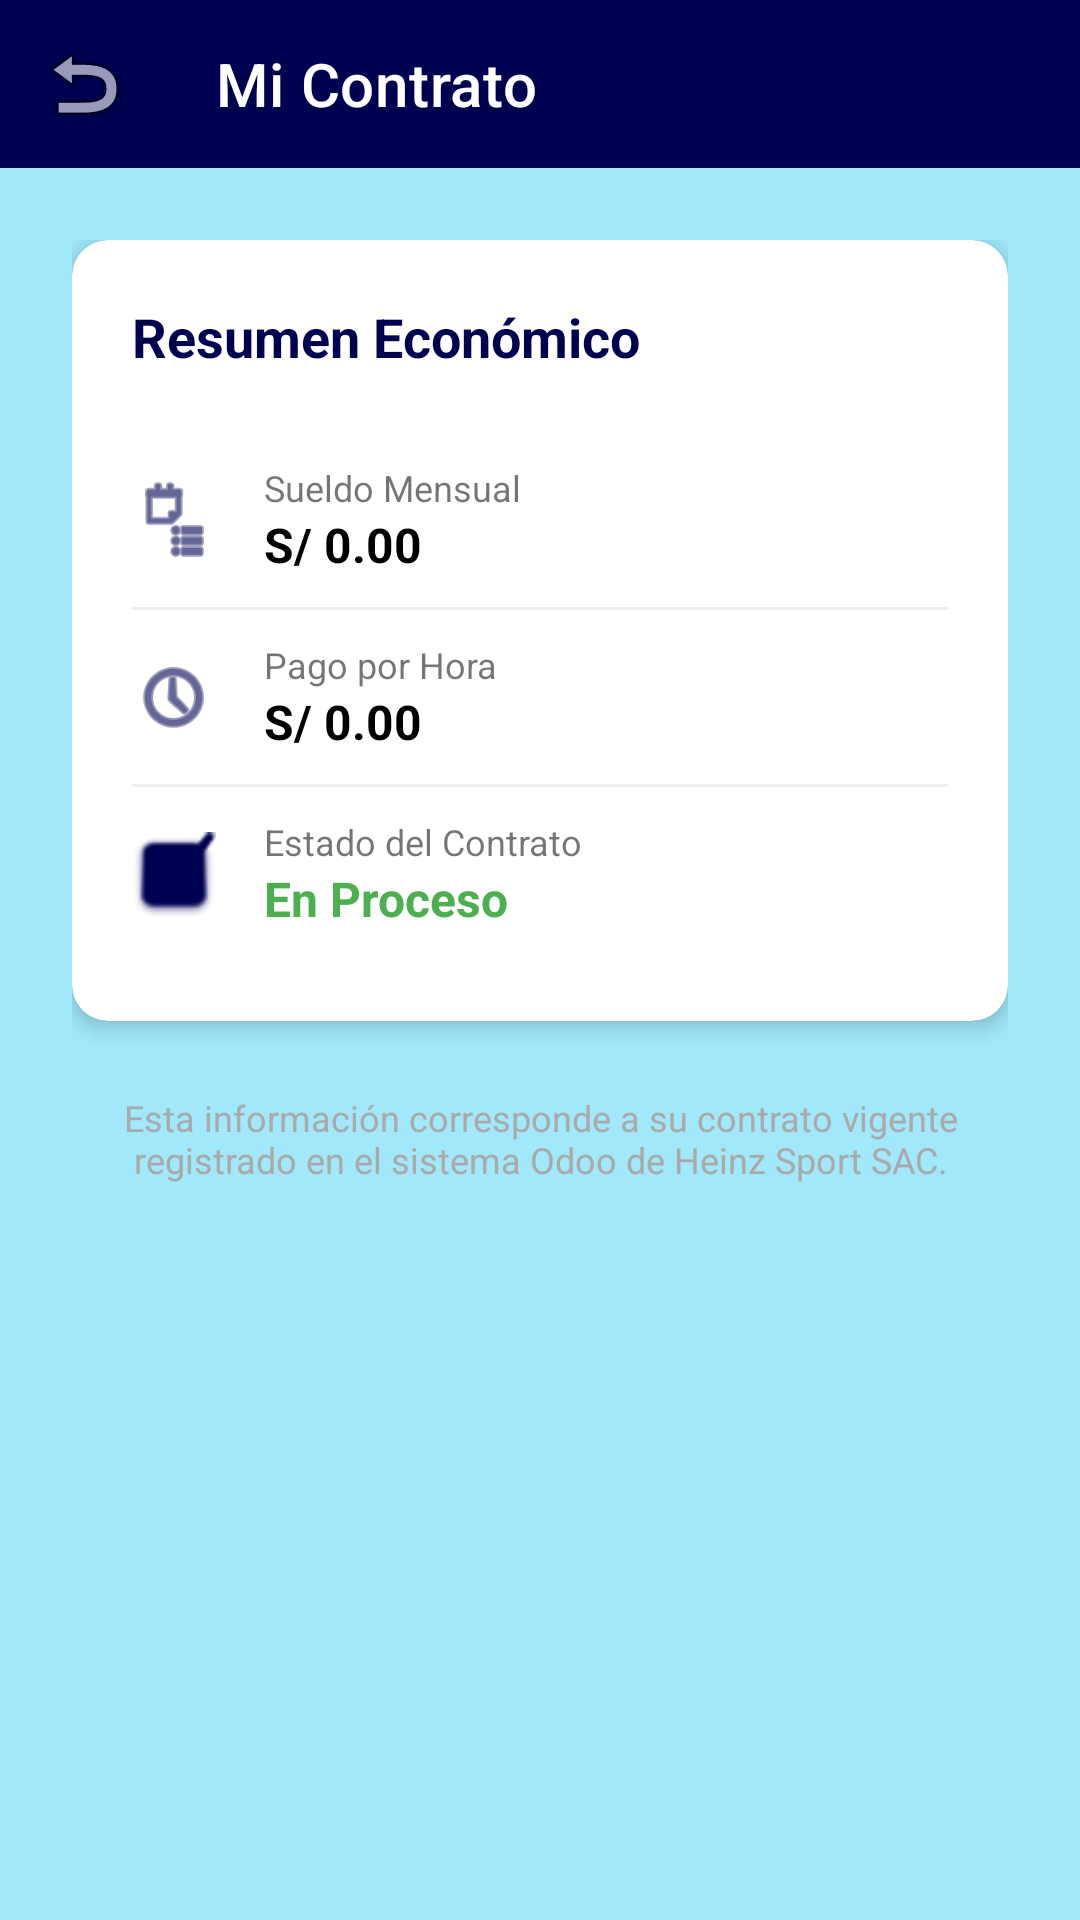

Where to tap for icons on this 1080*1920 app screen, as point (x, y):
agenda: point (174, 519)
recent history: point (173, 697)
